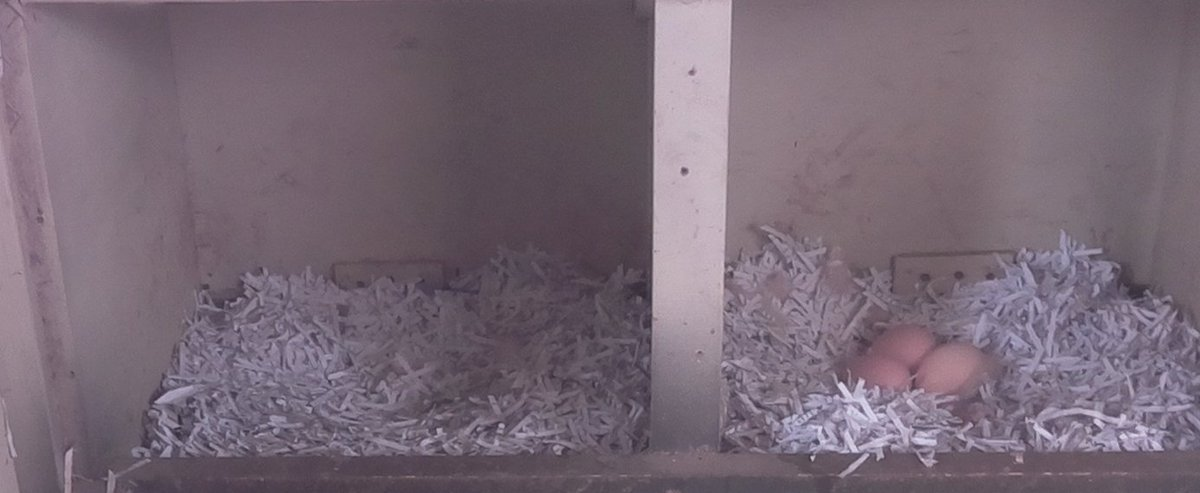egg: (909, 340, 995, 404), (840, 349, 917, 401), (867, 323, 942, 366)
